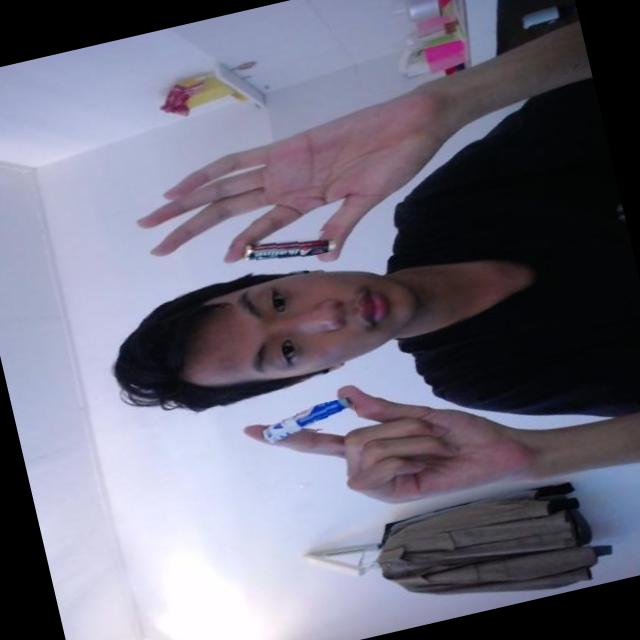Hazard: (259, 394, 359, 445), (240, 222, 338, 270)
